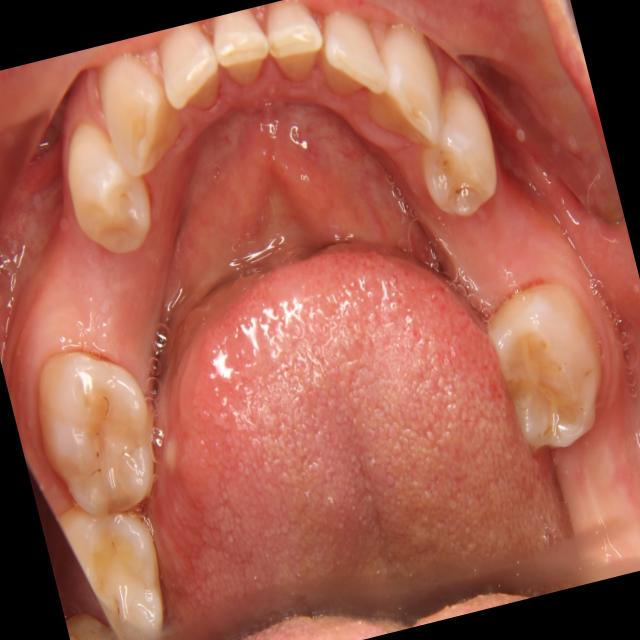tooth: (464, 257, 640, 493), (10, 333, 180, 548), (387, 62, 521, 246), (46, 469, 190, 640), (41, 105, 173, 273), (347, 6, 463, 169), (83, 44, 195, 197), (302, 0, 403, 127), (143, 16, 242, 134), (193, 2, 295, 109), (251, 0, 343, 99)
